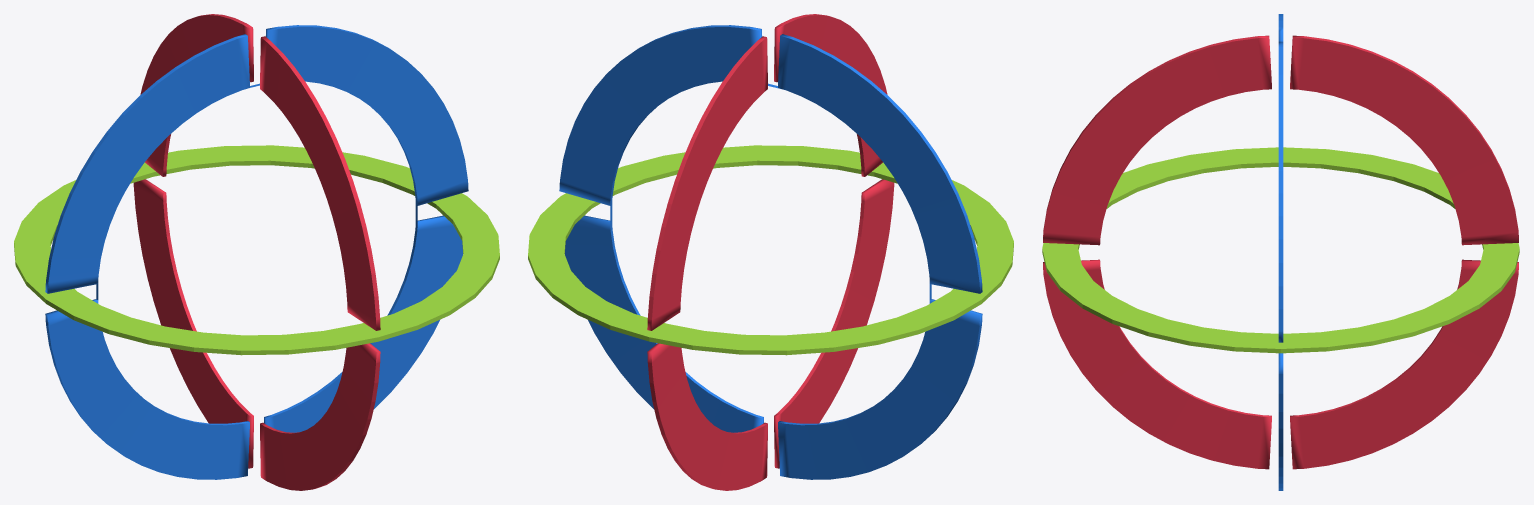
The model's file is Rotation1.fbx.
The picture shows the model from 3 angles, left to right: view 1: azimuth 30°, elevation 25°; view 2: azimuth 150°, elevation 25°; view 3: azimuth 270°, elevation 25°; orthographic projection.
Parts seen in each view (by area): view 1: XY, YZ, XZ; view 2: XY, YZ, XZ; view 3: YZ, XZ, XY.
Boxes of the visible parts, x1,y1,x2,y2 form: XY: (45,25,468,479); YZ: (133,14,380,490); XZ: (14,145,499,355); XY: (559,25,982,479); YZ: (647,14,894,490); XZ: (528,145,1013,355); YZ: (1043,35,1518,469); XZ: (1042,147,1519,353); XY: (1278,14,1283,490).
Size of the model in its own units: 300 by 299 by 300.
